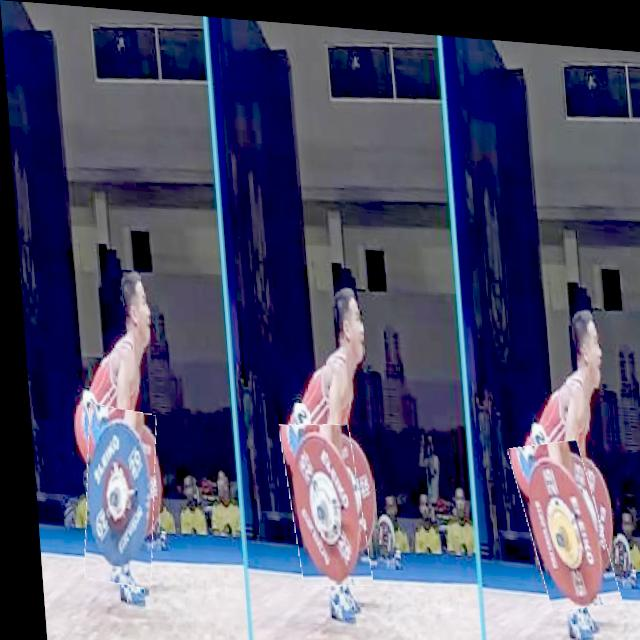barbell: (509, 430, 607, 604), (71, 405, 156, 588), (277, 417, 363, 585)
